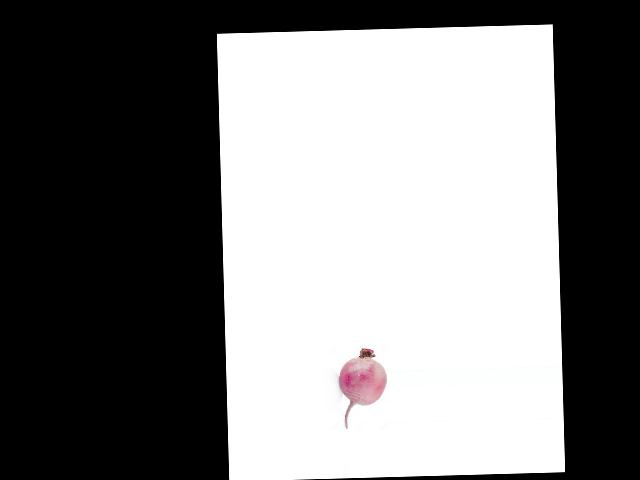beet: (338, 348, 387, 428)
